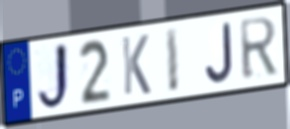2: (77, 37, 113, 108)
I: (164, 24, 181, 95)
J: (35, 40, 74, 113), (203, 19, 235, 86)
K: (120, 32, 153, 98)
R: (237, 15, 279, 83)
